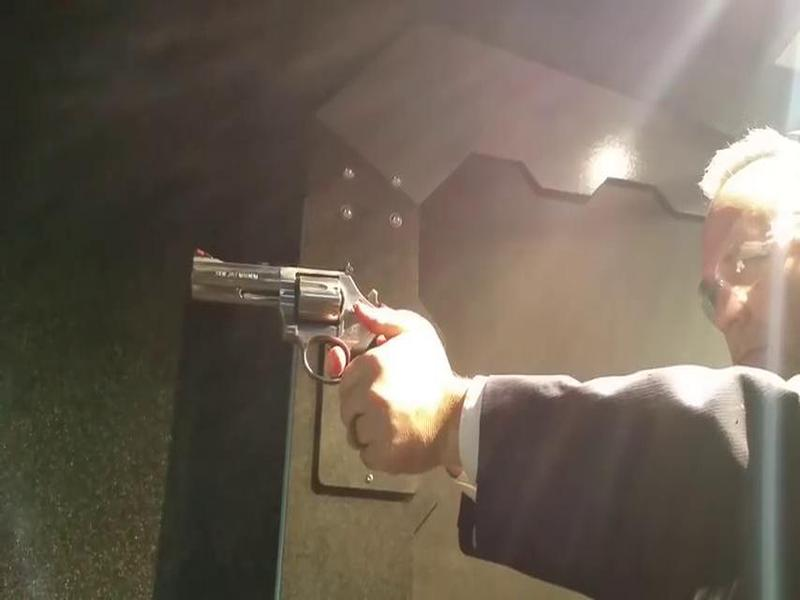Revolver: (179, 243, 387, 397)
